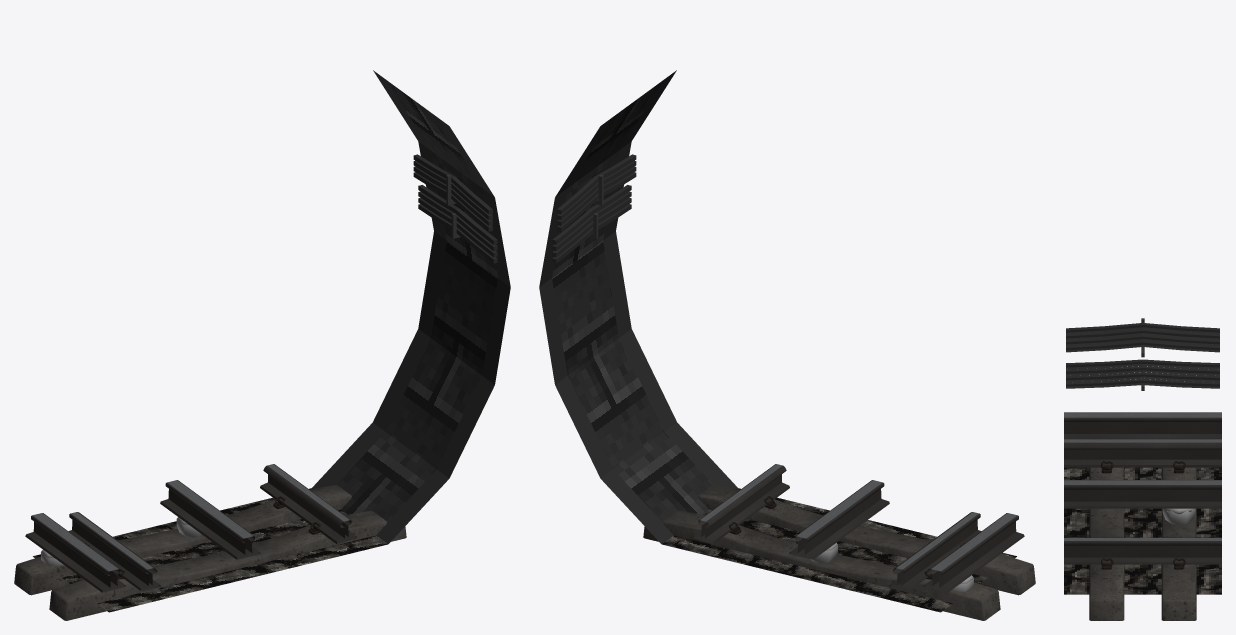
Rendered from track.obj.
3 views of the same model, side by side, from view 1: azimuth 30°, elevation 25°; view 2: azimuth 150°, elevation 25°; view 3: azimuth 270°, elevation 25° (orthographic). The views are drawn at different scales.
Parts seen in each view (by area): view 1: Cylinder_Cylinder.002, Full_LOD0_LOD0.007, Full_LOD0_LOD0, Full_LOD0_LOD0.002, Full_LOD0_LOD0.001, Full_LOD0_LOD0.003, cube.002_cube.008, cube.003_cube.009; view 2: Cylinder_Cylinder.002, Full_LOD0_LOD0.002, Full_LOD0_LOD0, Full_LOD0_LOD0.007, Full_LOD0_LOD0.001, Full_LOD0_LOD0.003, cube.002_cube.008, cube.003_cube.009; view 3: Full_LOD0_LOD0, Cylinder_Cylinder.002, Full_LOD0_LOD0.001, Full_LOD0_LOD0.003, cube.002_cube.008, cube.003_cube.009, Full_LOD0_LOD0.007, Full_LOD0_LOD0.002, Sphere.002.
Part boxes in pixels (bbox=[...]): Cylinder_Cylinder.002: bbox=[33, 70, 510, 612]; Full_LOD0_LOD0.007: bbox=[49, 510, 406, 620]; Full_LOD0_LOD0: bbox=[68, 464, 356, 590]; Full_LOD0_LOD0.002: bbox=[14, 485, 351, 595]; Full_LOD0_LOD0.001: bbox=[160, 480, 260, 559]; Full_LOD0_LOD0.003: bbox=[25, 513, 125, 592]; cube.002_cube.008: bbox=[418, 185, 497, 263]; cube.003_cube.009: bbox=[413, 154, 492, 231]; Cylinder_Cylinder.002: bbox=[539, 70, 1016, 612]; Full_LOD0_LOD0.002: bbox=[643, 510, 1000, 620]; Full_LOD0_LOD0: bbox=[693, 464, 981, 590]; Full_LOD0_LOD0.007: bbox=[698, 485, 1035, 595]; Full_LOD0_LOD0.001: bbox=[789, 480, 889, 559]; Full_LOD0_LOD0.003: bbox=[924, 513, 1024, 592]; cube.002_cube.008: bbox=[552, 185, 631, 263]; cube.003_cube.009: bbox=[557, 154, 636, 231]; Full_LOD0_LOD0: bbox=[1064, 439, 1221, 564]; Cylinder_Cylinder.002: bbox=[1064, 467, 1221, 594]; Full_LOD0_LOD0.001: bbox=[1064, 480, 1221, 508]; Full_LOD0_LOD0.003: bbox=[1064, 412, 1221, 439]; cube.002_cube.008: bbox=[1066, 359, 1219, 388]; cube.003_cube.009: bbox=[1066, 323, 1219, 352]; Full_LOD0_LOD0.007: bbox=[1089, 467, 1124, 620]; Full_LOD0_LOD0.002: bbox=[1161, 467, 1196, 620]; Sphere.002: bbox=[1162, 508, 1195, 524].
Bounding box in the file's own units: 3.33 × 3.73 × 1.02.
Materials: 8 (8 with a texture image).
